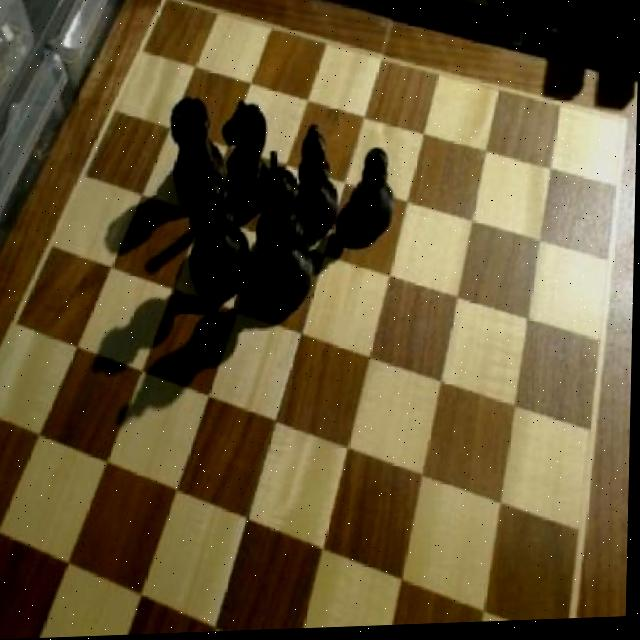bishop: (296, 122, 344, 239)
black-bishop: (246, 147, 320, 312)
black-king: (217, 97, 272, 214)
black-knight: (348, 148, 400, 243)
black-pawn: (182, 168, 257, 300)
black-queen: (167, 92, 227, 207)
